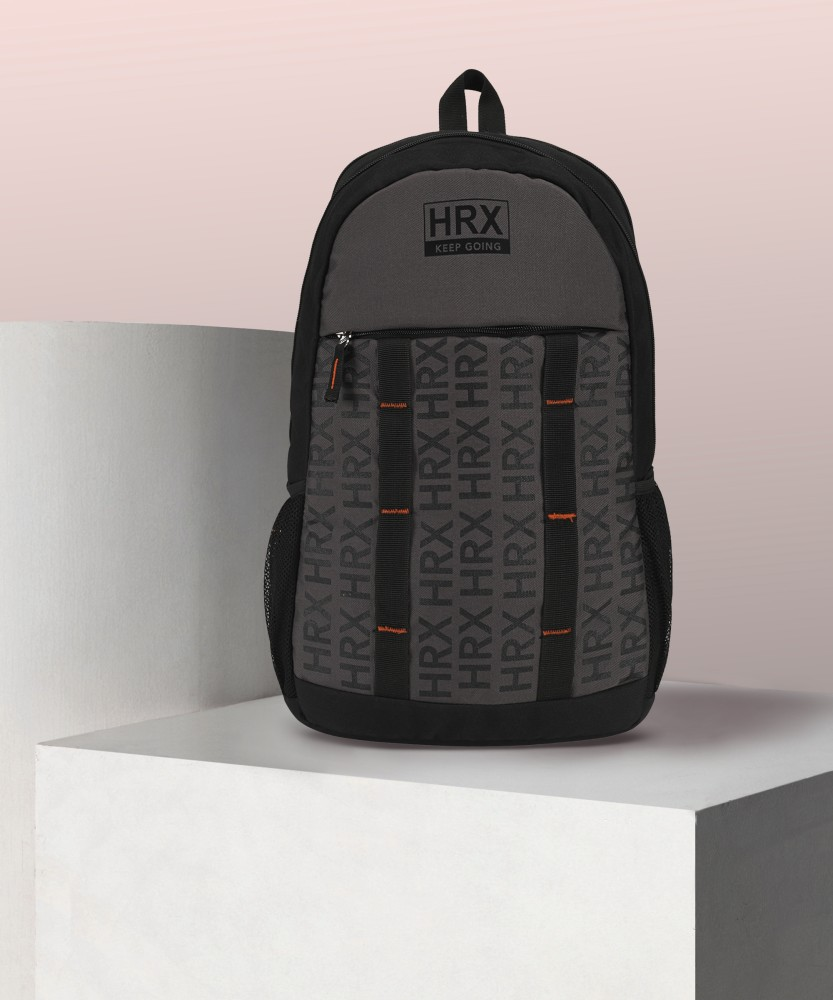backpack: (262, 67, 673, 747)
